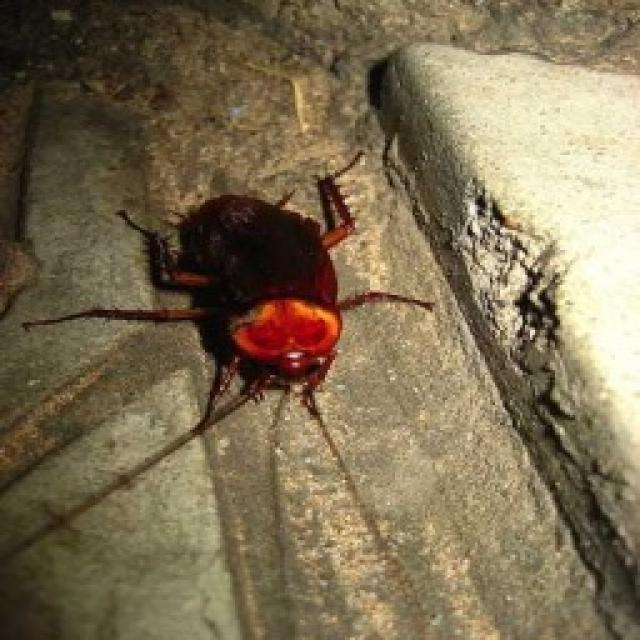cockroach: (20, 145, 439, 437)
